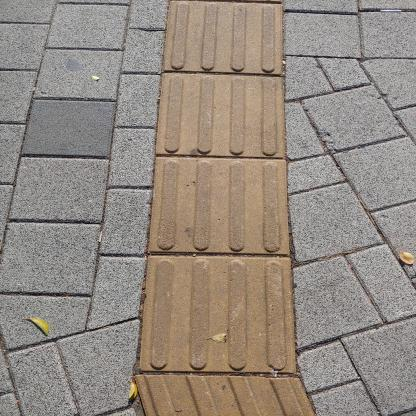podotacti: (127, 0, 324, 415)
